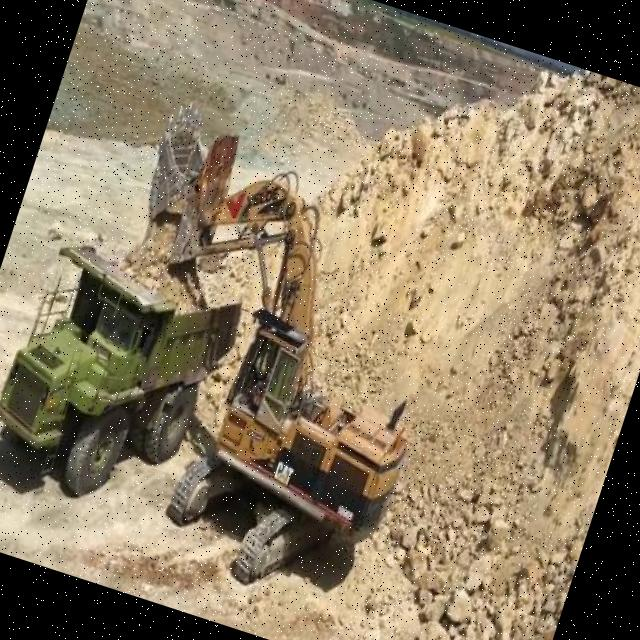Dump Truck: (0, 199, 263, 532)
Excavator: (32, 91, 494, 628)
